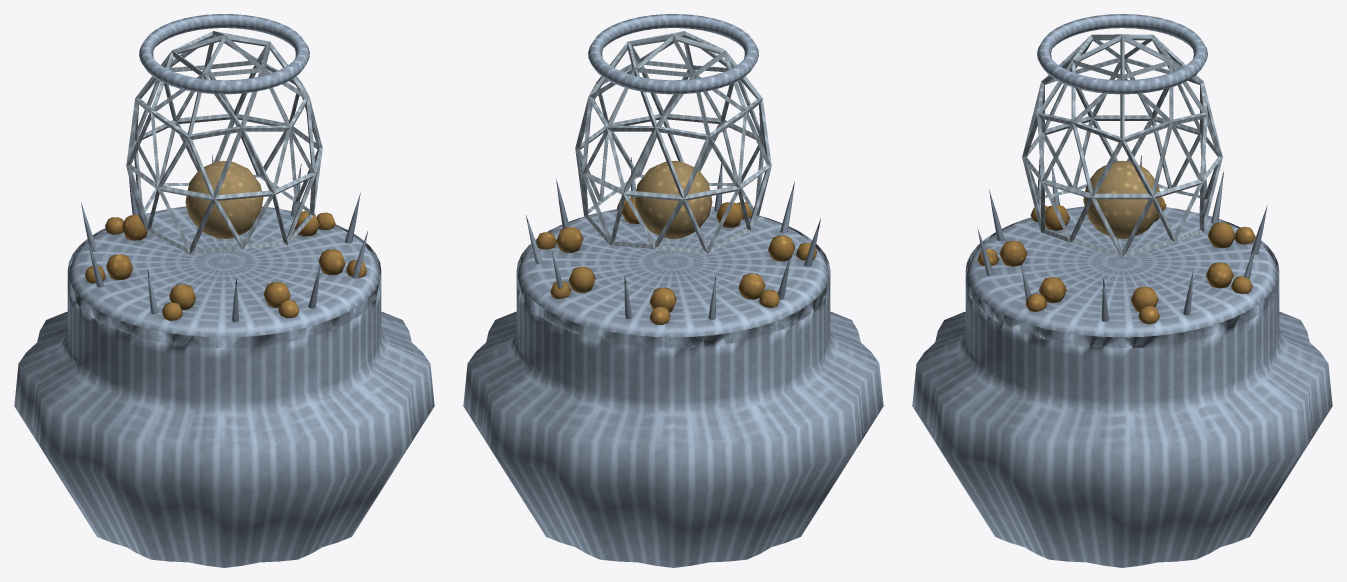
Rendered from landmark_b1_sponge_tower.glb.
3 views of the same model, side by side, from view 1: azimuth 30°, elevation 25°; view 2: azimuth 150°, elevation 25°; view 3: azimuth 270°, elevation 25° (orthographic).
Visible parts, largest first — view 1: LandmarkB1SpongeTower, Growth_Beads, Growth_Needles; view 2: LandmarkB1SpongeTower, Growth_Beads, Growth_Needles; view 3: LandmarkB1SpongeTower, Growth_Beads, Growth_Needles.
Boxes of the visible parts, x1,y1,x2,y2 form: LandmarkB1SpongeTower: (14, 14, 434, 567); Growth_Beads: (84, 211, 367, 320); Growth_Needles: (81, 154, 367, 321); LandmarkB1SpongeTower: (463, 14, 883, 567); Growth_Beads: (536, 197, 816, 324); Growth_Needles: (526, 157, 820, 319); LandmarkB1SpongeTower: (912, 14, 1332, 567); Growth_Beads: (977, 197, 1255, 324); Growth_Needles: (977, 156, 1267, 321).
Size of the model in its own units: 5.36 by 6.83 by 5.36.
Materials: 4 (4 with a texture image).
